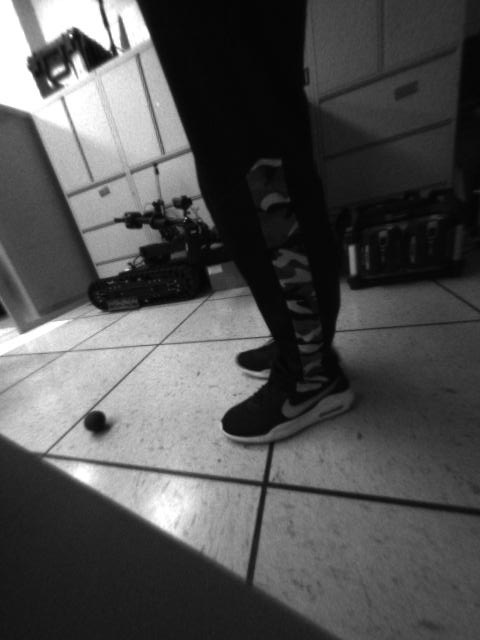dogtoy: (75, 404, 114, 437)
